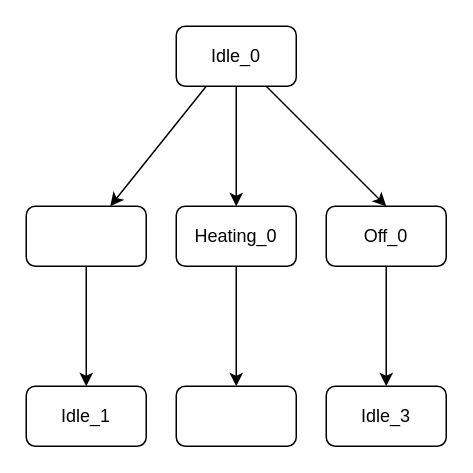
This 473x473 diagram has some shape labels left out. The shapes that lost their labels are listed below. From the top down, each one's centre as x and y in pixels, then its label:
(85,235): Cooling_0
(235,415): Idle_2
